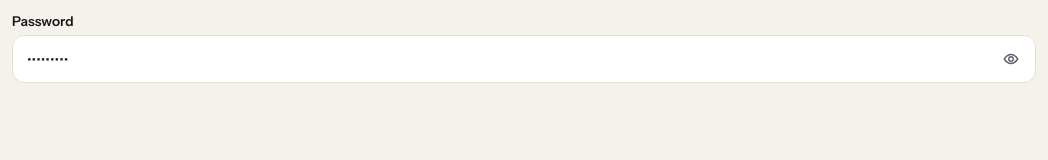
Test: PasswordField › masks the value by default and reveals it on toggle
Click the button named "Show password": (1011, 59) [992,40,1030,78]
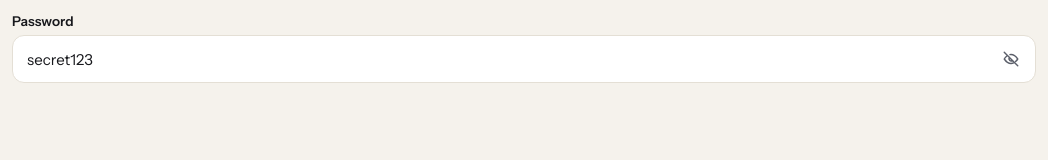
Now the field labelled "Password" shows its text, box [12,35,1036,83]
Now the button named "Hide password" is shown
Click the button named "Hide password": (1011, 59) [992,40,1030,78]
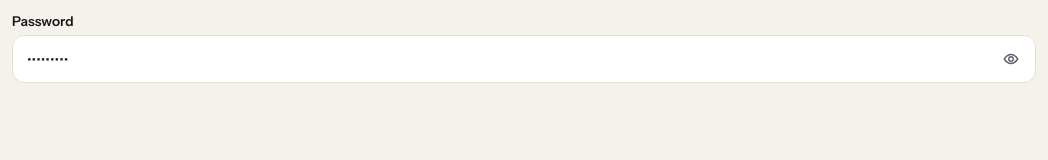
Now the password field labelled "Password" hides its text, box [12,35,1036,83]
